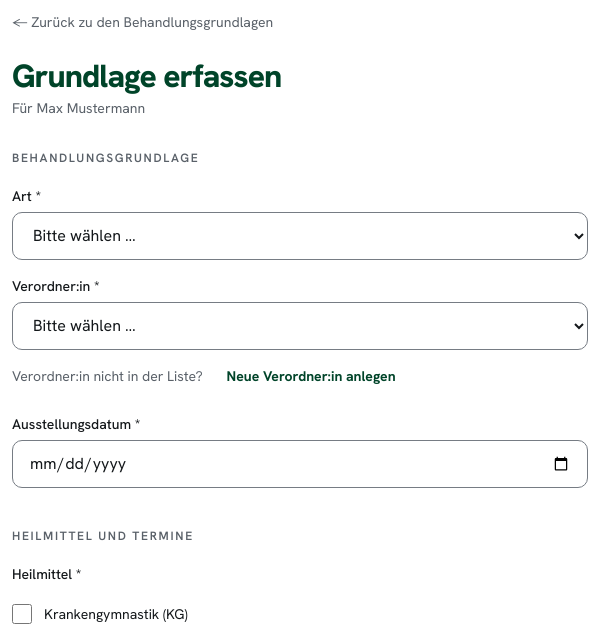
Test: NewTreatmentBasisPage › Die zweite Bauart: Selbstzahler › laesst Verordner:in und die klinischen Felder verschwinden
Expected: the dropdown labelled "Verordner:in *" is shown, top-left (12, 302), bottom-right (588, 350)
Select "Selbstzahler" in the dropdown labelled "Art *": x=300, y=236 top-left (12, 212), bottom-right (588, 260)
(page scrolled)
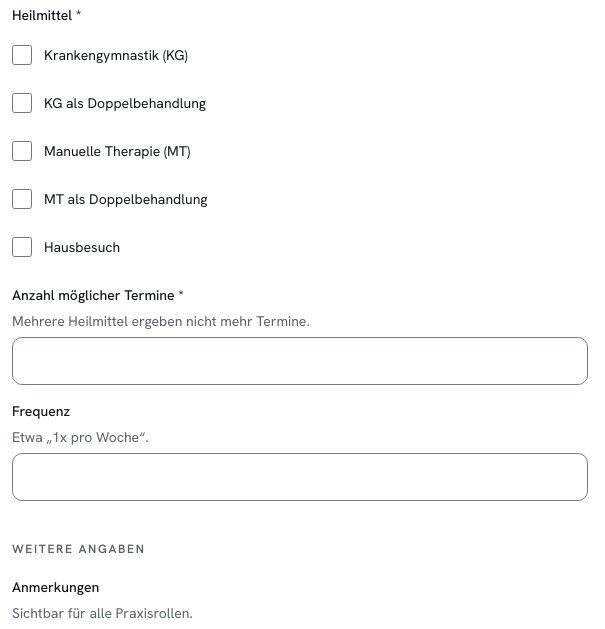
Expected: the field labelled "Anzahl möglicher Termine *" is shown, top-left (12, 337), bottom-right (588, 385)
Now the label labelled "Verordner:in *" is gone
